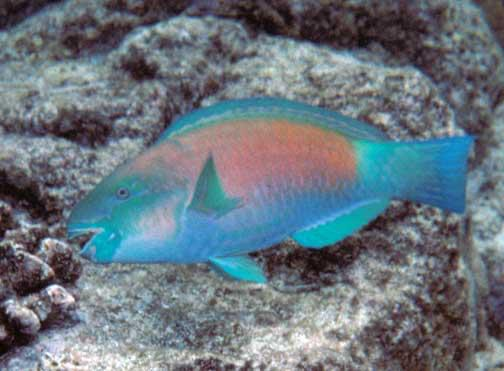Scaridae -Parrotfishes-: (62, 95, 476, 284)
